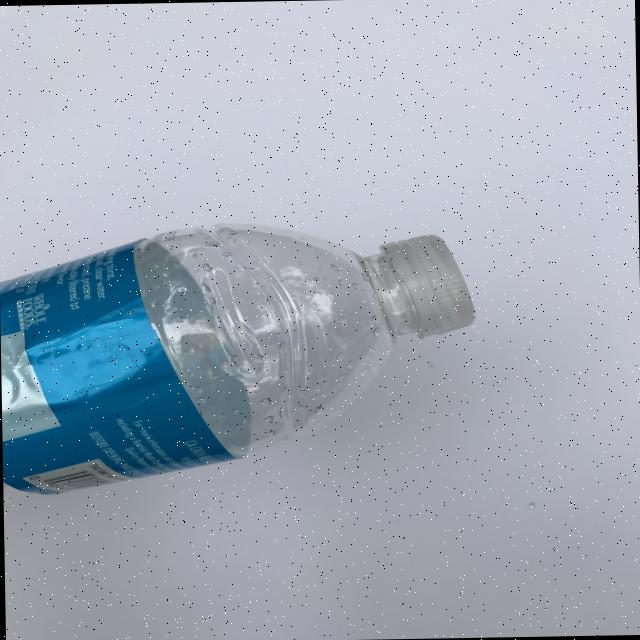plastic: (0, 216, 477, 496)
